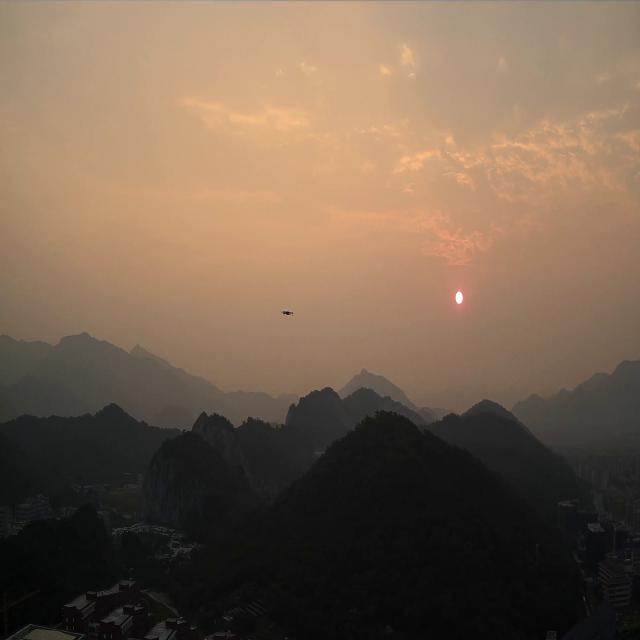drone: (280, 309, 294, 316)
